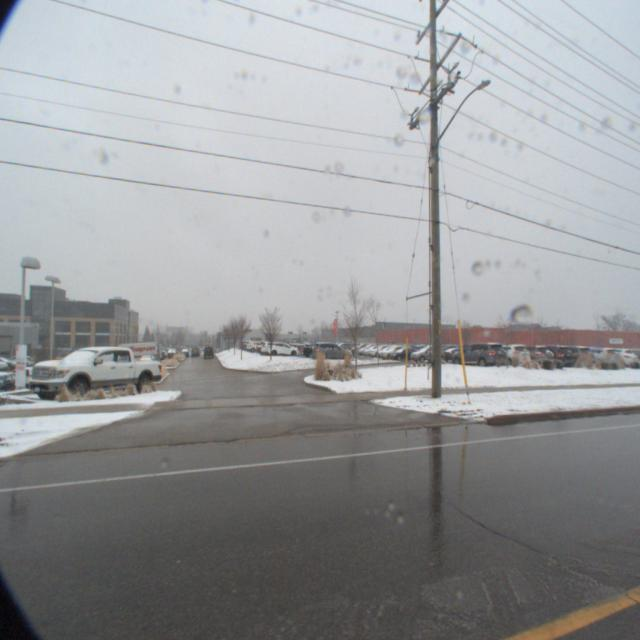Car: (453, 339, 510, 369), (308, 341, 350, 360), (407, 345, 446, 363), (262, 341, 298, 358), (388, 346, 422, 362), (378, 344, 410, 361)
Truck: (4, 344, 162, 414), (100, 342, 158, 370)
